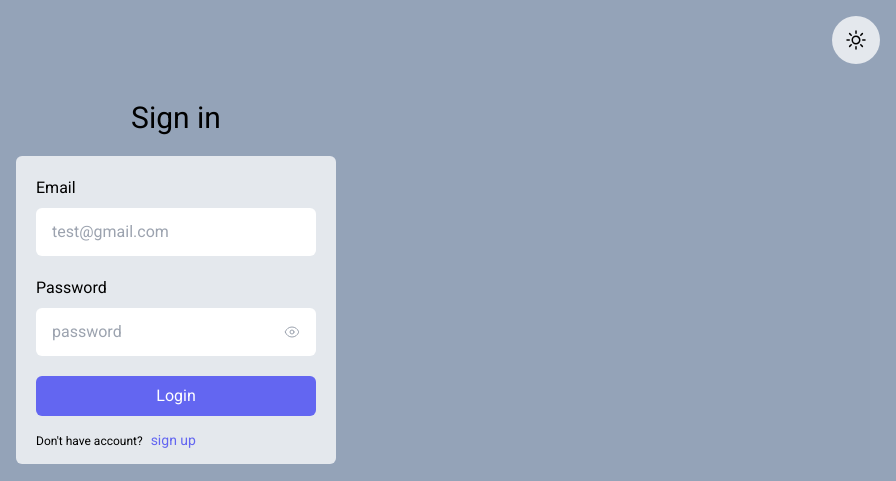
Test: SignUp Page Initial render
The image size is (896, 481).
Click the link "sign up".
click(173, 440)  # box [151,432,196,448]
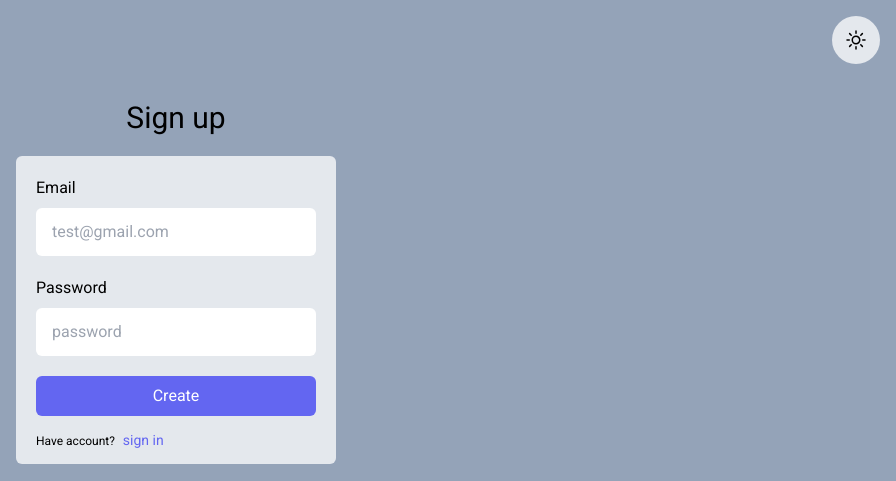
Now the heading "Sign up" is shown, box [126,100,226,135]
